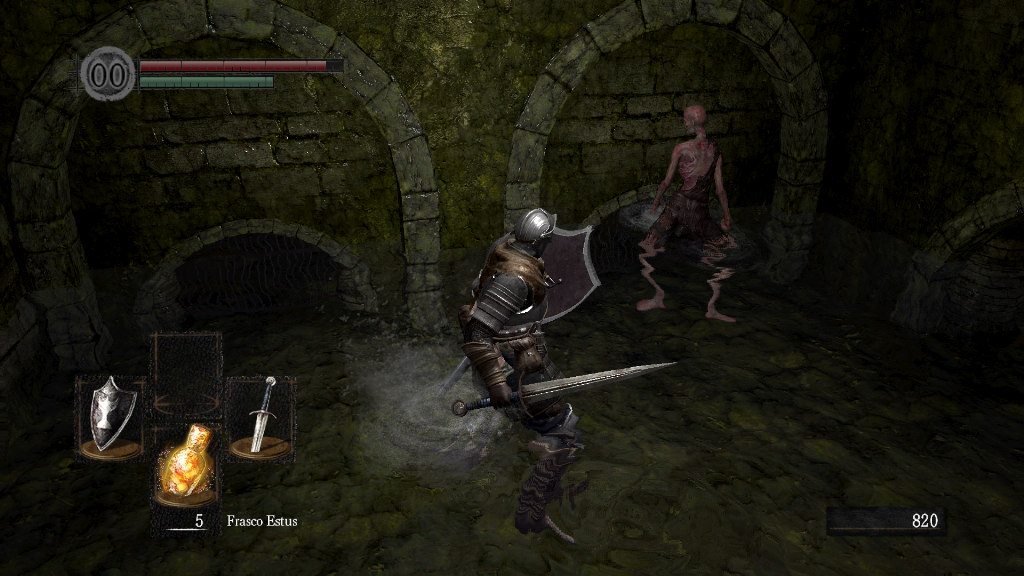health: (138, 58, 343, 71)
hollow: (633, 105, 739, 322)
humanity: (80, 45, 136, 102)
player: (436, 207, 680, 544)
souls: (825, 506, 945, 536)
stamina: (138, 74, 274, 88)
